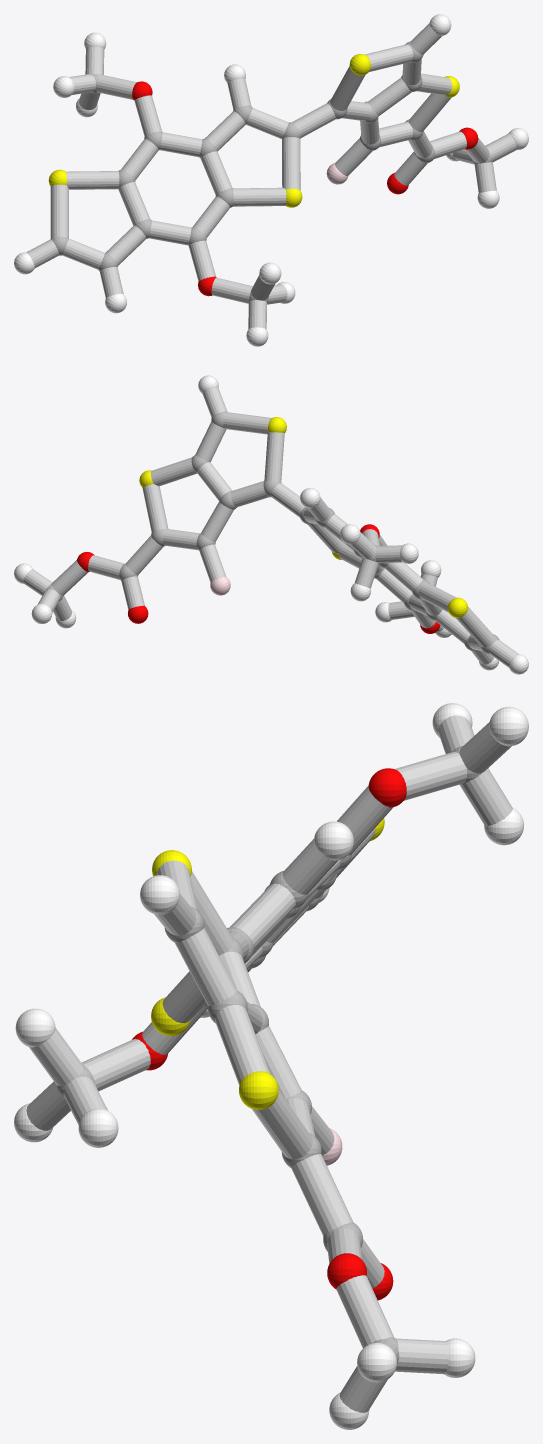
Rendered from color.glb.
3 views of the same model, one above another, from view 1: azimuth 30°, elevation 25°; view 2: azimuth 150°, elevation 25°; view 3: azimuth 270°, elevation 25° (orthographic). The views are drawn at different scales.
Parts seen in each view (by area): view 1: grp15205, grp8689, grp1, grp7241, grp13395; view 2: grp15205, grp8689, grp1, grp7241, grp13395; view 3: grp15205, grp8689, grp1, grp13395, grp7241.
Part boxes in pixels (x1,y1,x2,y2): grp15205: [26, 23, 517, 329]; grp8689: [14, 14, 528, 346]; grp1: [50, 41, 492, 302]; grp7241: [48, 54, 459, 207]; grp13395: [132, 81, 478, 296]; grp15205: [23, 387, 518, 667]; grp8689: [14, 375, 528, 674]; grp1: [45, 411, 499, 653]; grp7241: [139, 417, 468, 618]; grp13395: [77, 524, 440, 633]; grp15205: [26, 715, 512, 1412]; grp8689: [14, 703, 528, 1429]; grp1: [56, 745, 481, 1368]; grp13395: [132, 768, 406, 1300]; grp7241: [151, 818, 384, 1109].
Bounding box in the file's own units: 16.64 × 7.66 × 7.73.
